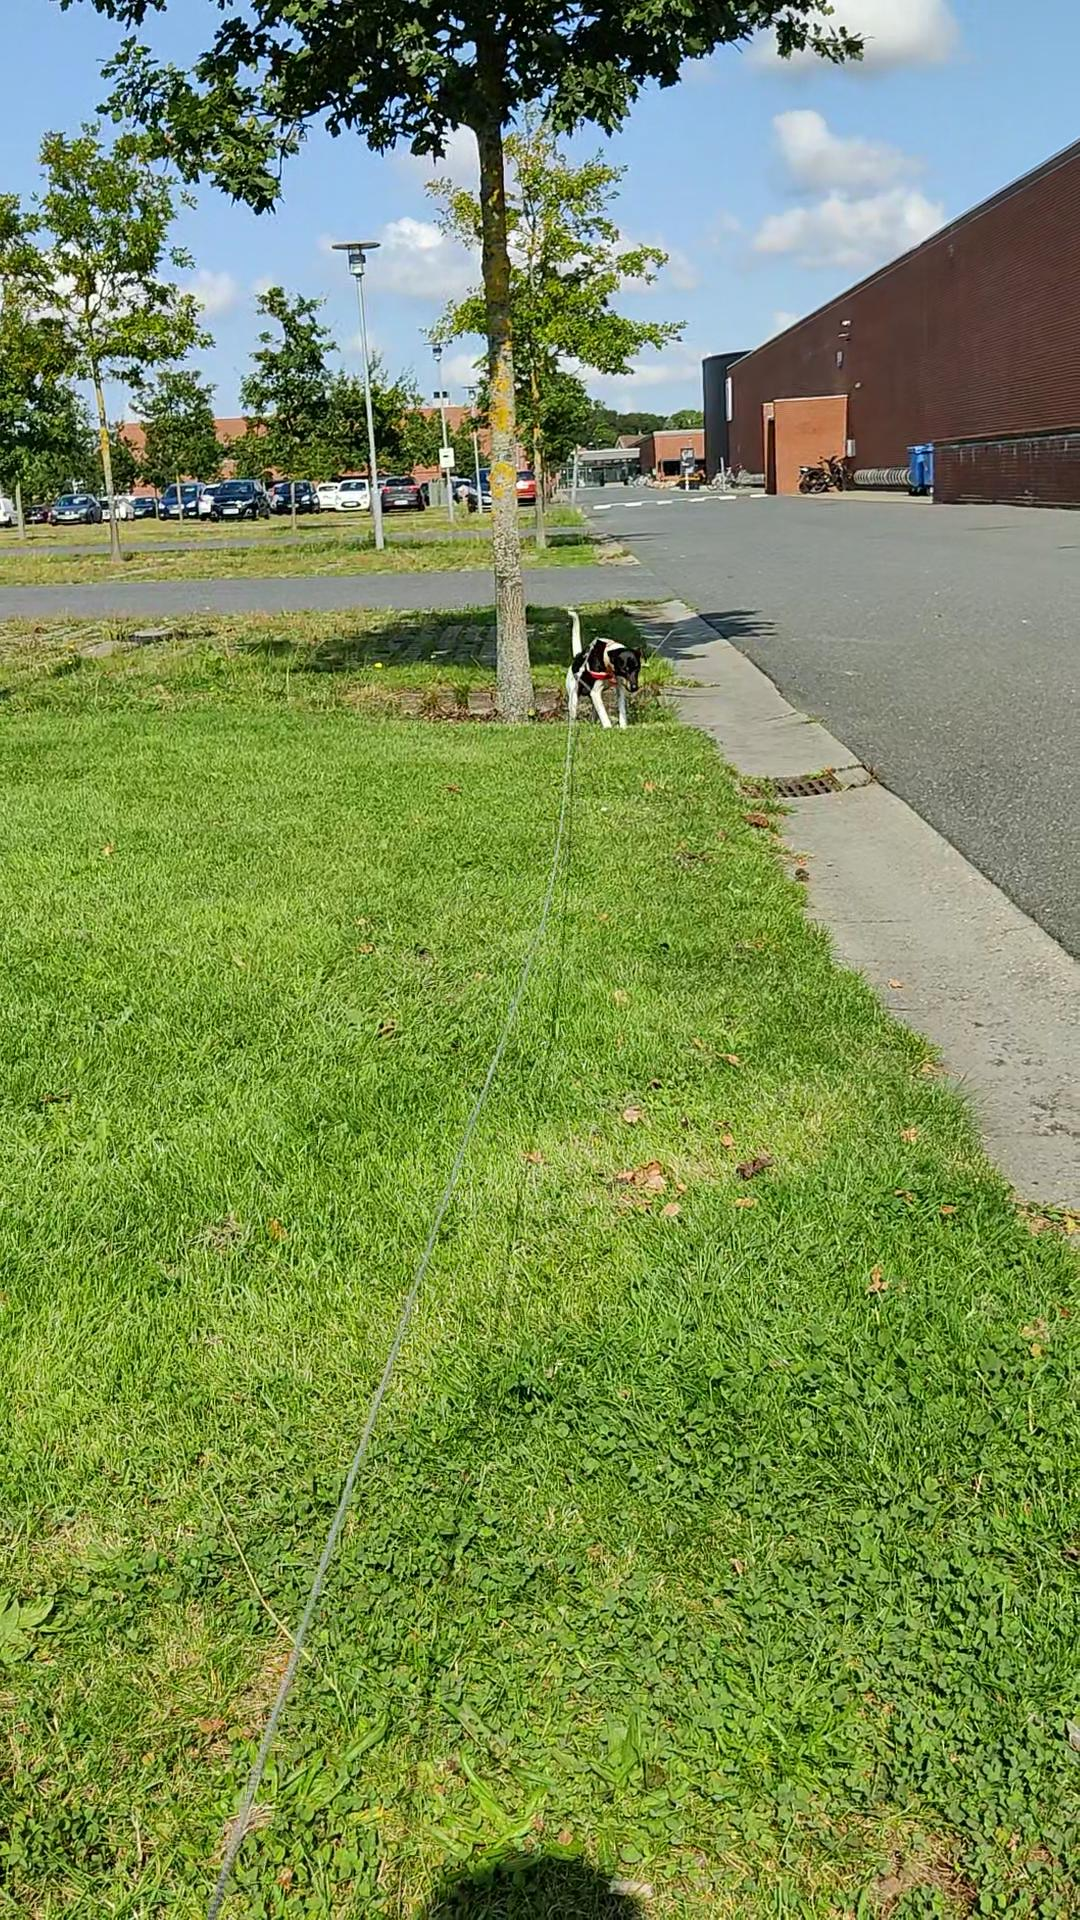Dog: (558, 603, 645, 727)
